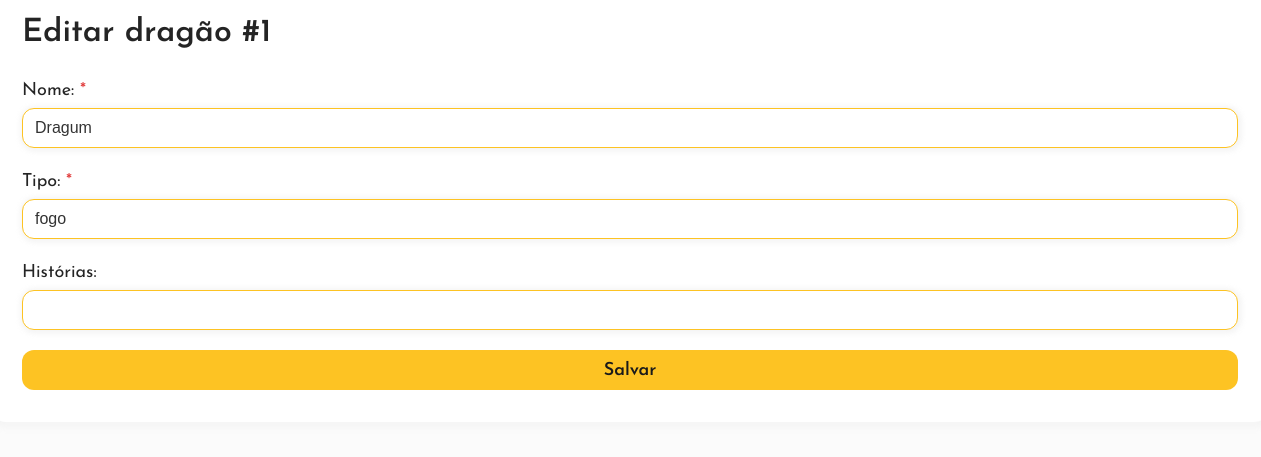
Test: DragonForm › Update form › show error when updating dragon returned an error
Click the button "Salvar". click: (630, 370)
box: [22,350,1238,390]
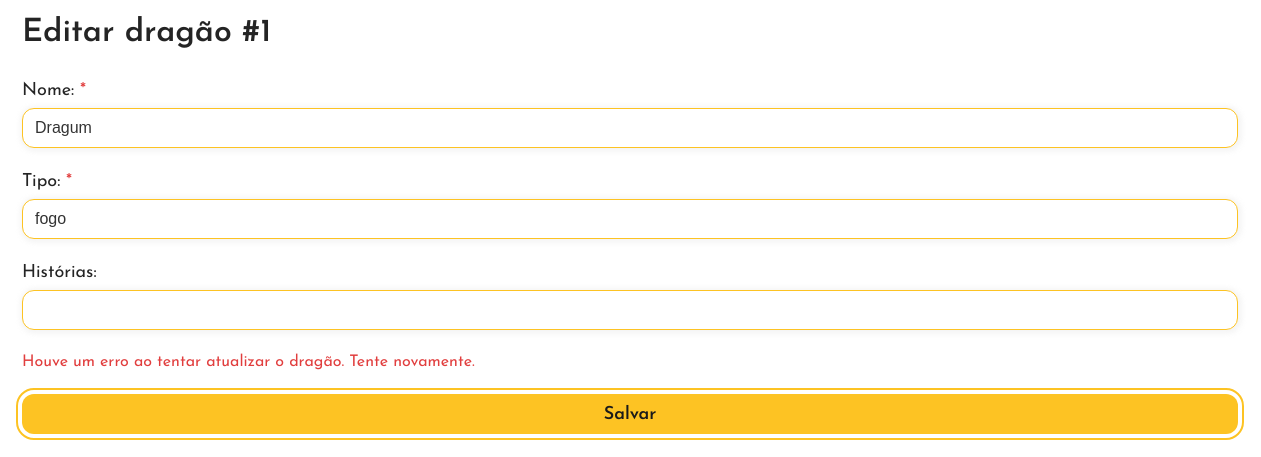
Expected: the text "Houve um erro ao tentar atualizar o dragão. Tente novamente." is shown, [22,354,475,370]
